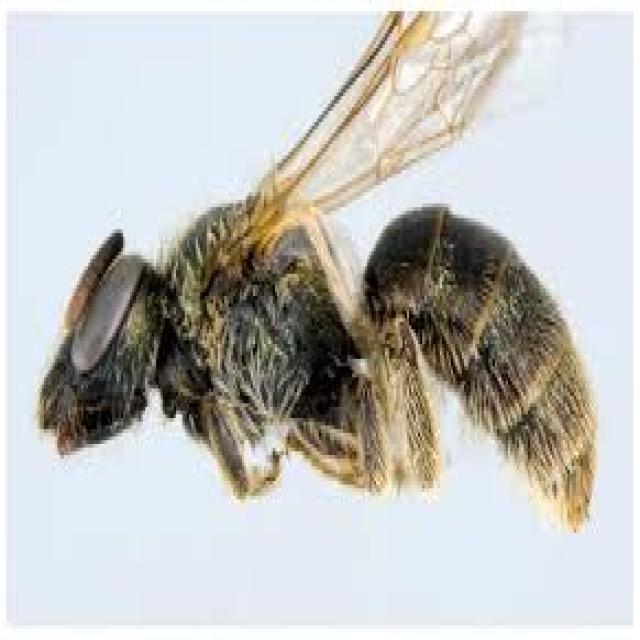Lasioglossum: (46, 16, 604, 542)
